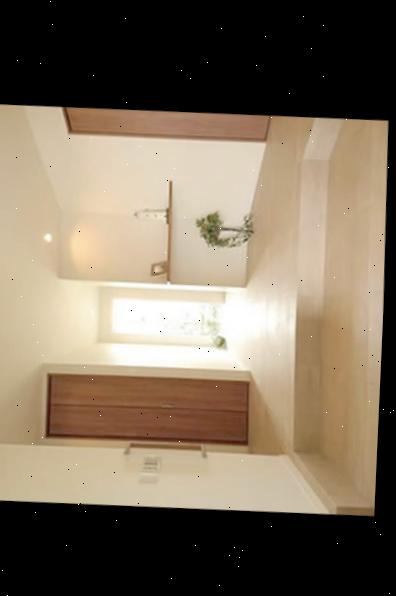floor: (318, 118, 388, 507)
safe: (219, 115, 336, 514)
